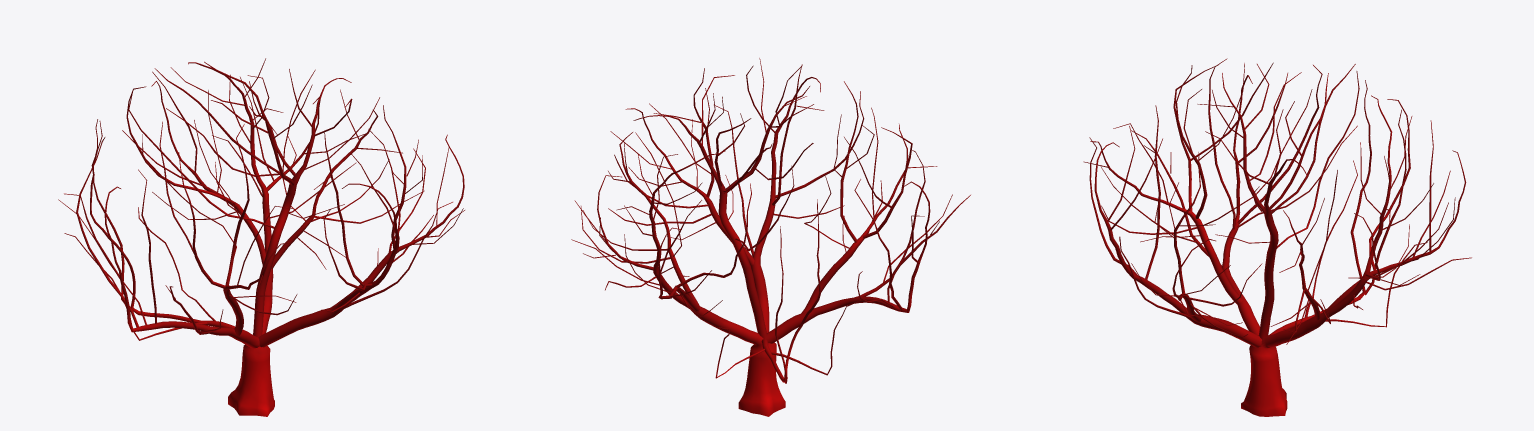
The model's file is oak_a_lod0.glb.
3 views of the same model, side by side, from view 1: azimuth 30°, elevation 25°; view 2: azimuth 150°, elevation 25°; view 3: azimuth 270°, elevation 25° (orthographic). The views are drawn at different scales.
Visible parts, largest first — view 1: oak_a_LOD0; view 2: oak_a_LOD0; view 3: oak_a_LOD0.
Part boxes in pixels (<box>): oak_a_LOD0: <box>58,58,464,416</box>; oak_a_LOD0: <box>571,58,970,416</box>; oak_a_LOD0: <box>1083,58,1471,416</box>.
Size of the model in its own units: 18.17 by 14.65 by 18.28.
